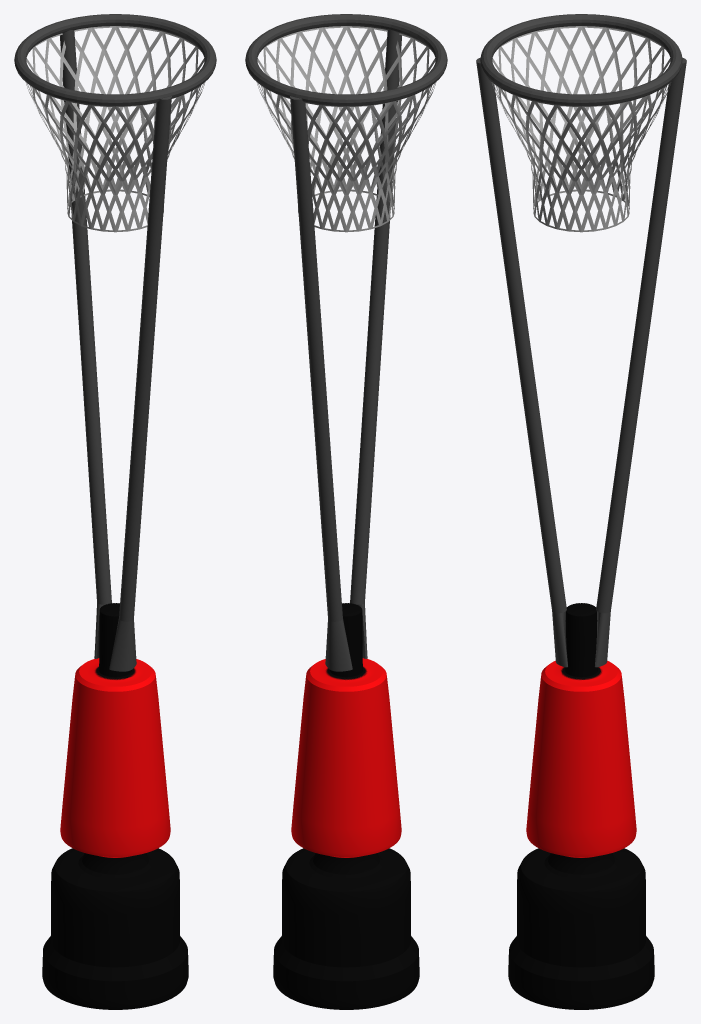
Rendered from Basket ball court.fbx.
3 renders of one model, left to right at view 1: azimuth 30°, elevation 25°; view 2: azimuth 150°, elevation 25°; view 3: azimuth 270°, elevation 25°, orthographic.
Visible parts, largest first — view 1: Basket; view 2: Basket; view 3: Basket.
Boxes of the visible parts, box(x1,y1,x2,y2) form: Basket: box(14, 14, 216, 1009); Basket: box(245, 14, 447, 1009); Basket: box(476, 14, 686, 1009).
Size of what is drawn, in the model's own units: 154 by 777 by 160.
1 material, 1 textured.
